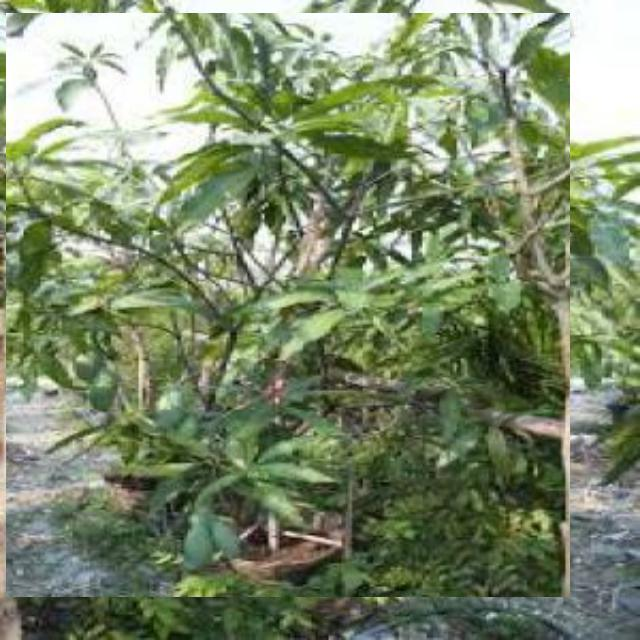tree: (6, 13, 570, 597)
